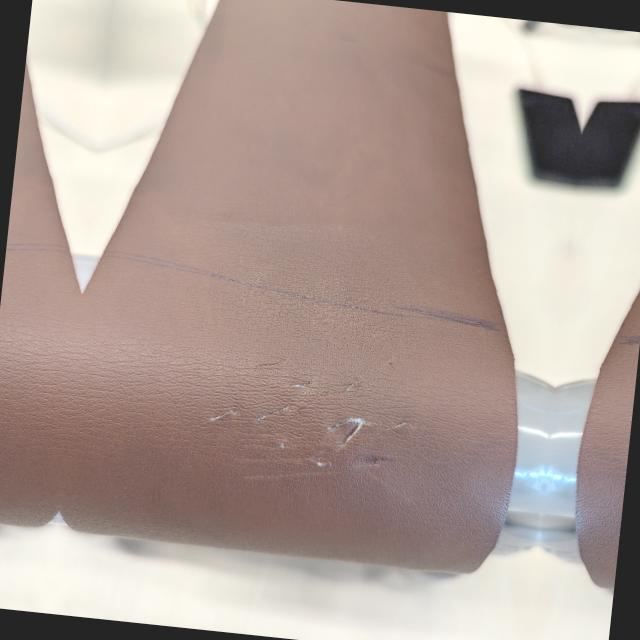belt_crack: (164, 321, 472, 516)
